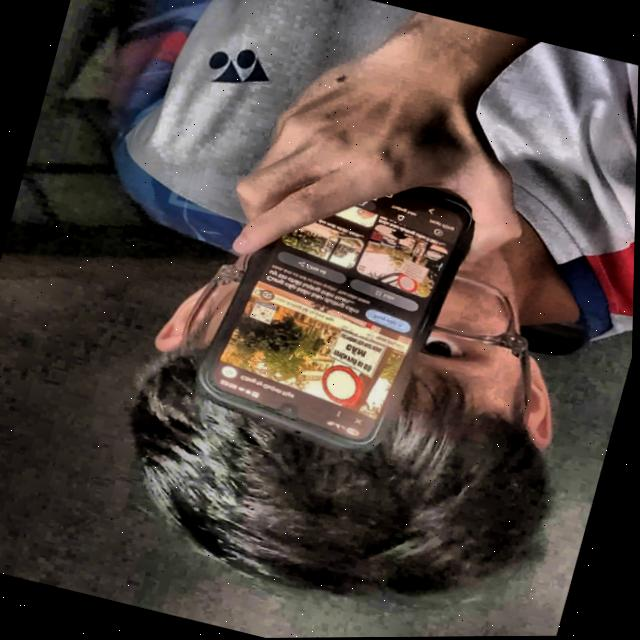Bien_bao_duong_cam: (314, 362, 365, 409)
